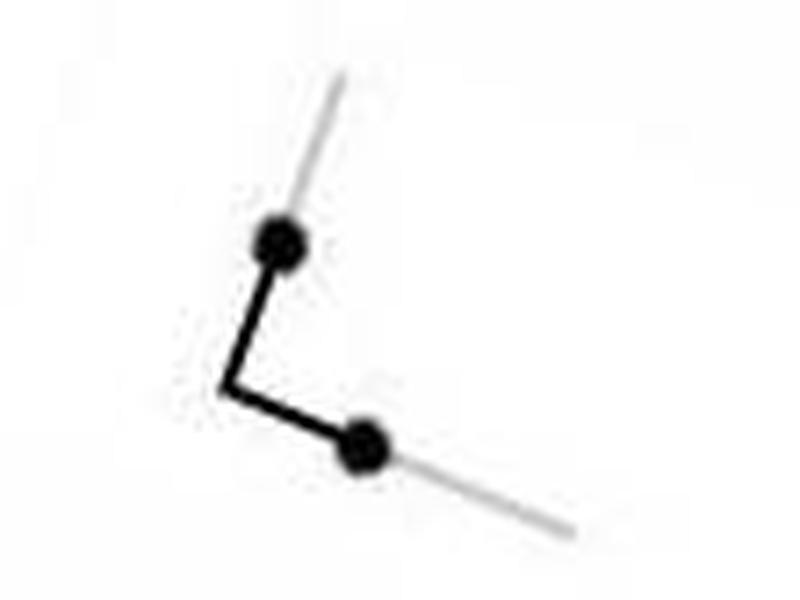butt_weld_90: (212, 213, 608, 551)
